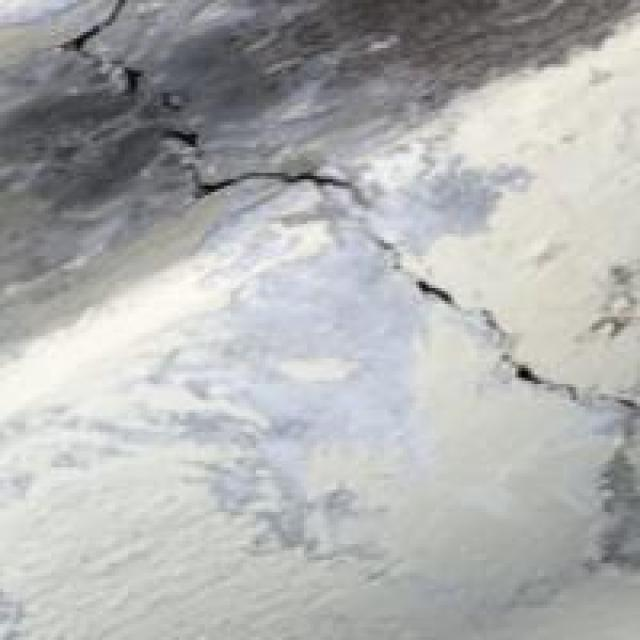Crack: (35, 3, 640, 560)
